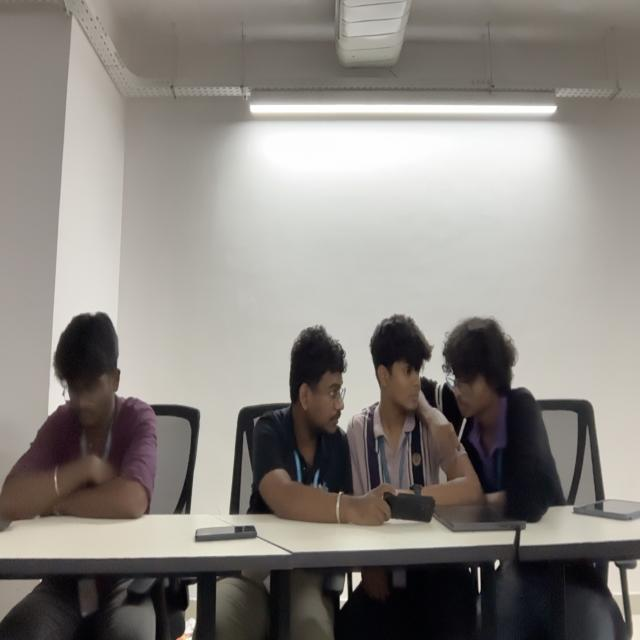Isolated: (0, 310, 157, 520)
socializing: (251, 310, 568, 523)
